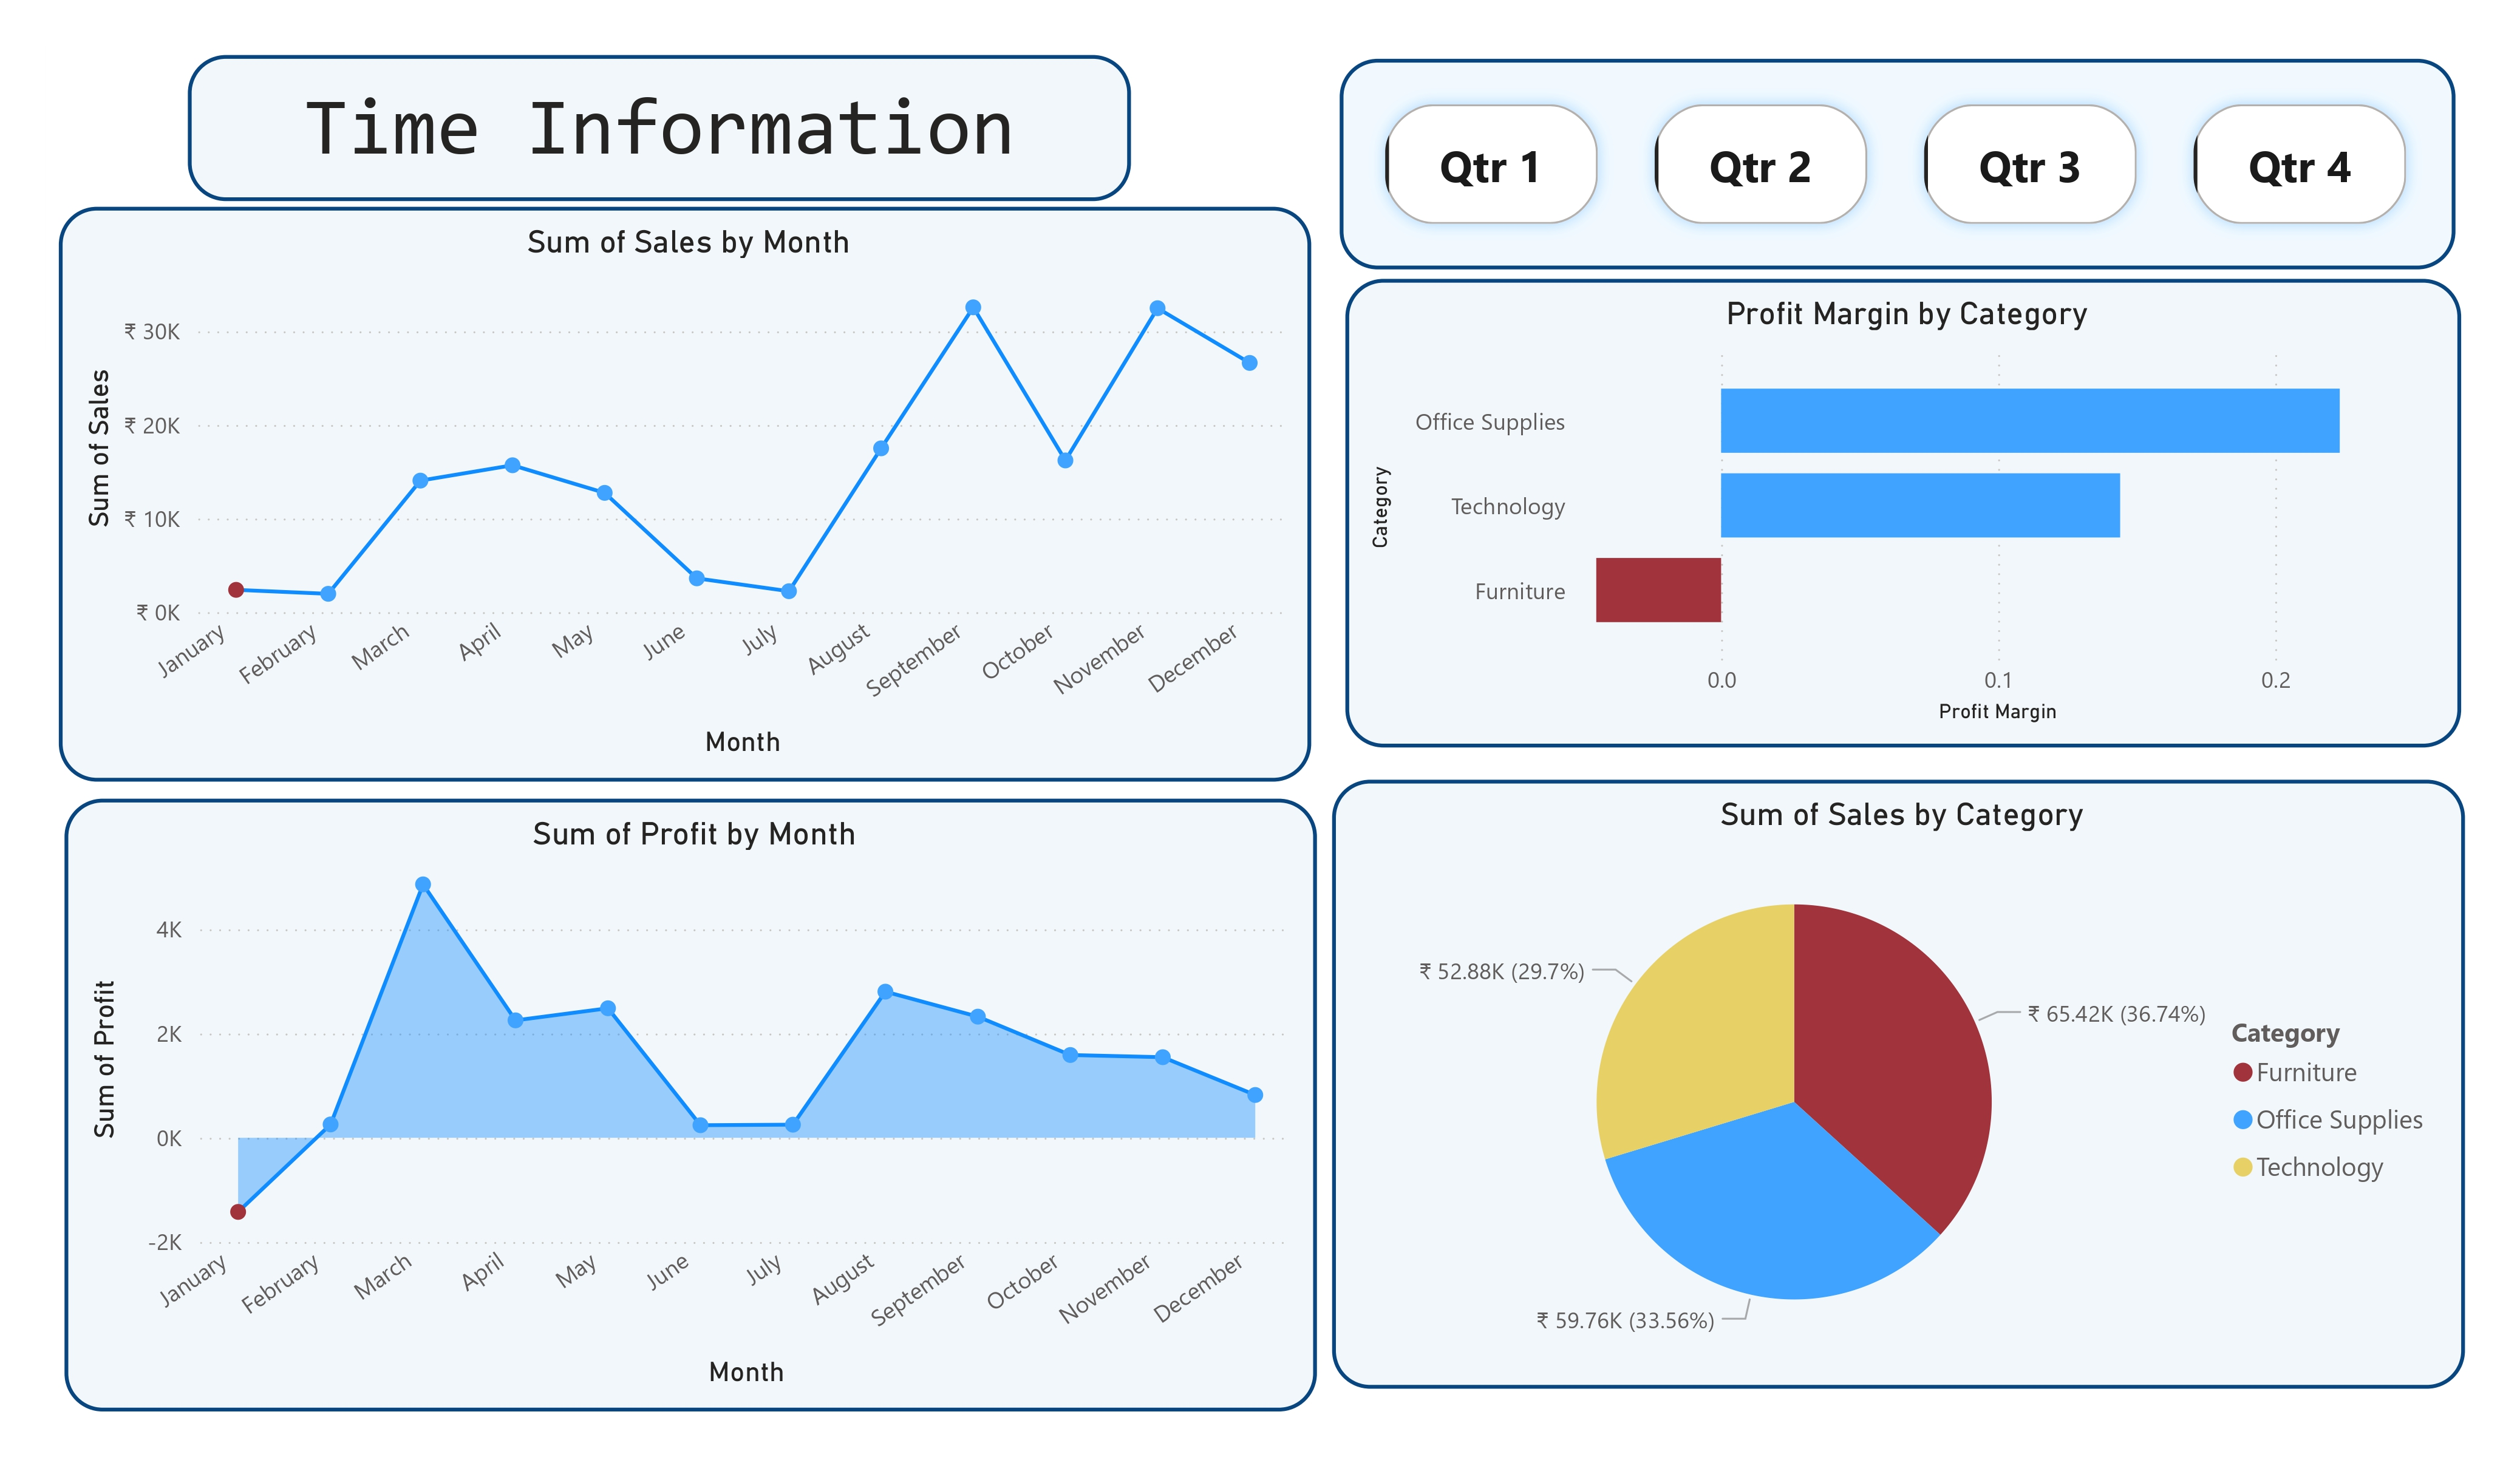

The page's visual inventory and layout, read from the dashboard file:
{"tool":"powerbi","page":{"name":"Time Infomation","canvas":[1280,720],"ordinal":0},"visuals":[{"type":"lineChart","fields":{"Category":["dataset.Date.Variation.Date Hierarchy.Month"],"Y":["Sum(dataset.Sales)"]},"box":[0,85,660,303.3],"z":0},{"type":"areaChart","fields":{"Category":["dataset.Date.Variation.Date Hierarchy.Month"],"Y":["Sum(dataset.Profit)"]},"box":[10,396.7,660,323.3],"z":1000},{"type":"advancedSlicerVisual","fields":{"Values":["dataset.Date.Variation.Date Hierarchy.Quarter"]},"box":[693.3,0,586.7,111.7],"z":2000},{"type":"pieChart","fields":{"Category":["dataset.Category"],"Y":["Sum(dataset.Sales)"]},"box":[683.3,396.7,596.7,321.7],"z":3000},{"type":"clusteredBarChart","fields":{"Category":["dataset.Category"],"Y":["dataset.Profit Margin"]},"box":[693.3,111.7,586.7,248.3],"z":4000},{"type":"textbox","box":[30,8.3,475,81.7],"z":4001}]}

Visuals, with their boxes in screenshot pixels (x1, y1, x2, y2):
lineChart - dataset.Date.Variation.Date Hierarchy.Month x Sum(dataset.Sales): <region>46, 207, 1298, 782</region>
areaChart - dataset.Date.Variation.Date Hierarchy.Month x Sum(dataset.Profit): <region>64, 798, 1317, 1411</region>
advancedSlicerVisual - dataset.Date.Variation.Date Hierarchy.Quarter: <region>1361, 46, 2474, 257</region>
pieChart - dataset.Category x Sum(dataset.Sales): <region>1342, 798, 2474, 1408</region>
clusteredBarChart - dataset.Category x dataset.Profit Margin: <region>1361, 257, 2474, 728</region>
textbox: <region>103, 61, 1004, 216</region>
